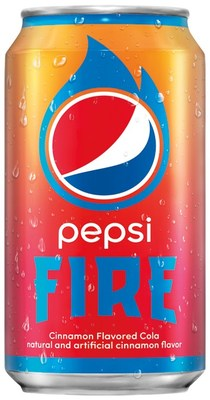pepsi: (48, 90, 160, 199), (54, 88, 160, 199), (54, 90, 160, 199)
